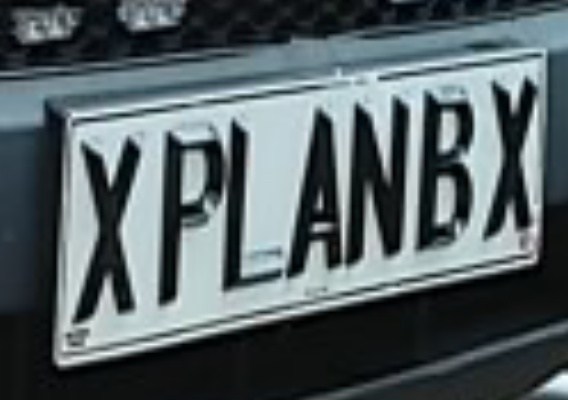A: (287, 87, 353, 285)
B: (412, 72, 487, 264)
L: (220, 105, 292, 301)
N: (344, 79, 416, 271)
P: (148, 110, 233, 313)
X: (67, 115, 151, 335), (477, 66, 543, 254)
